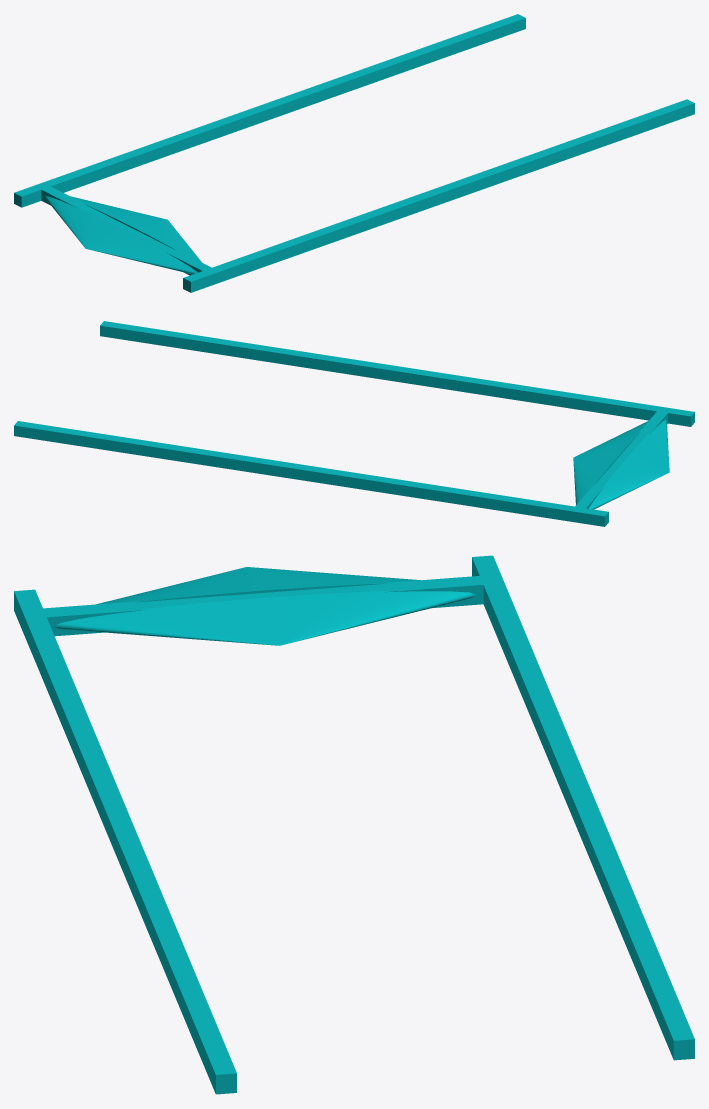
The model's file is horizontalLauncher.fbx.
3 renders of one model, top to bottom at view 1: azimuth 30°, elevation 25°; view 2: azimuth 150°, elevation 25°; view 3: azimuth 270°, elevation 25°, orthographic. The views are drawn at different scales.
Visible parts, largest first — view 1: sidePost1, sidePost2, blade1, blade, middlePost; view 2: sidePost2, sidePost1, blade1, blade, middlePost; view 3: sidePost1, sidePost2, blade, middlePost, blade1.
Part boxes in pixels (<box>): sidePost1: <box>183,99,694,292</box>; sidePost2: <box>14,14,525,207</box>; blade1: <box>44,196,197,274</box>; blade: <box>71,196,201,262</box>; middlePost: <box>36,185,217,275</box>; sidePost2: <box>14,421,608,526</box>; sidePost1: <box>100,321,694,426</box>; blade1: <box>589,419,669,509</box>; blade: <box>573,421,648,504</box>; middlePost: <box>572,409,670,511</box>; sidePost1: <box>14,589,236,1094</box>; sidePost2: <box>472,555,694,1060</box>; blade: <box>53,590,476,645</box>; middlePost: <box>29,575,496,636</box>; blade1: <box>97,567,420,604</box>.
Size of the model in its own units: 1428 by 791 by 31.25.
